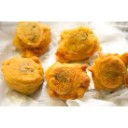bonda: (48, 63, 90, 98), (1, 61, 45, 92), (95, 52, 128, 89), (15, 22, 51, 55), (60, 24, 92, 59)
